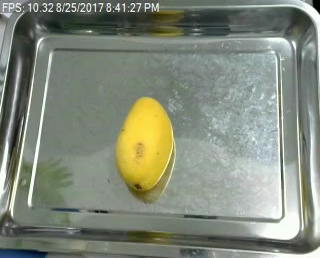Mango: (107, 94, 175, 195)
